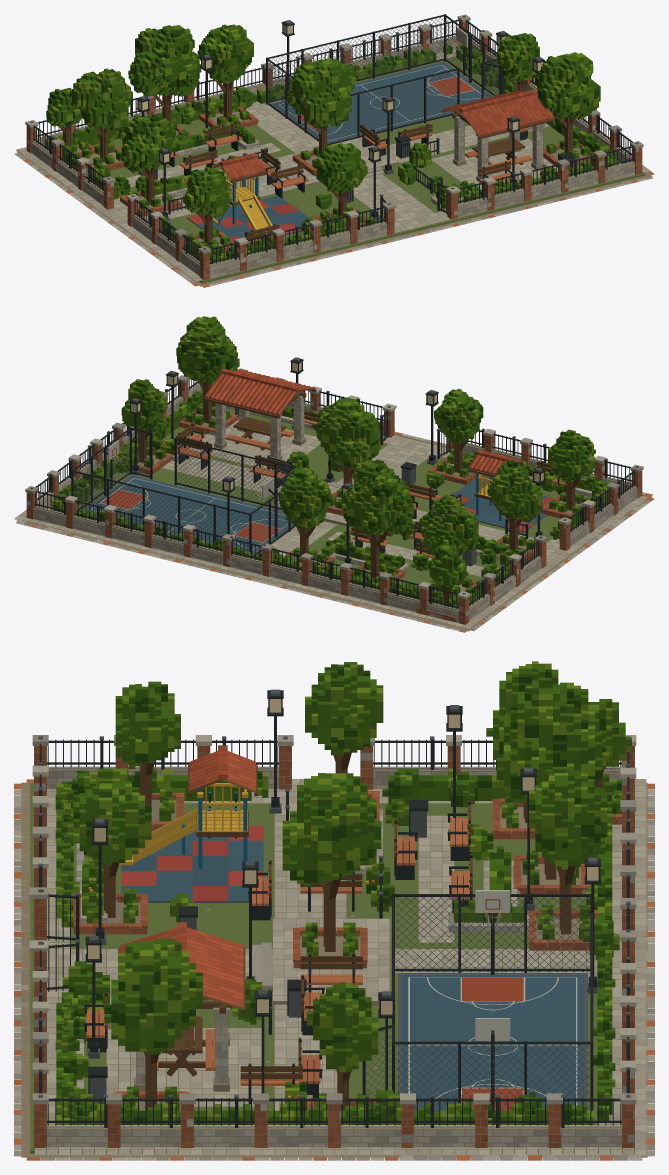
The model's file is SM_Mapa_078.fbx.
3 renders of one model, top to bottom at view 1: azimuth 30°, elevation 25°; view 2: azimuth 150°, elevation 25°; view 3: azimuth 270°, elevation 25°, orthographic. The views are drawn at different scales.
Visible parts, largest first — view 1: SM_Mapa_078; view 2: SM_Mapa_078; view 3: SM_Mapa_078.
Boxes of the visible parts, <box> form: SM_Mapa_078: <box>14,14,654,287</box>; SM_Mapa_078: <box>14,316,654,632</box>; SM_Mapa_078: <box>14,661,654,1160</box>.
Size of the model in its own units: 80 by 56.85 by 19.02.
